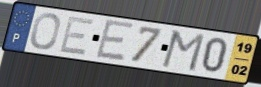0: (200, 36, 231, 74)
7: (129, 25, 164, 65)
E: (93, 18, 136, 63), (58, 15, 97, 58)
M: (159, 29, 207, 74)
O: (29, 12, 62, 51)
